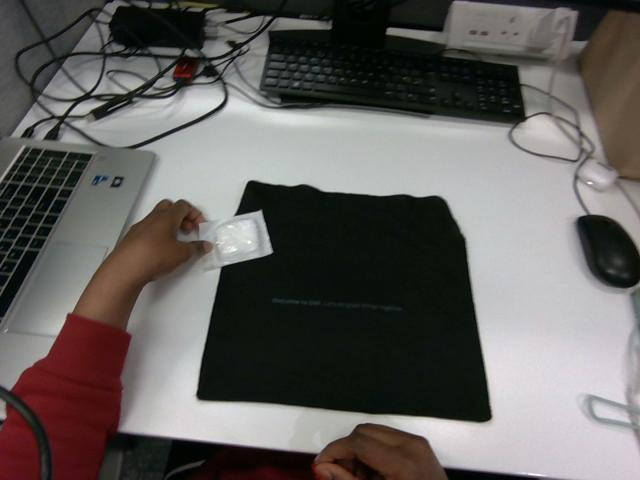gauze: (199, 210, 272, 269)
